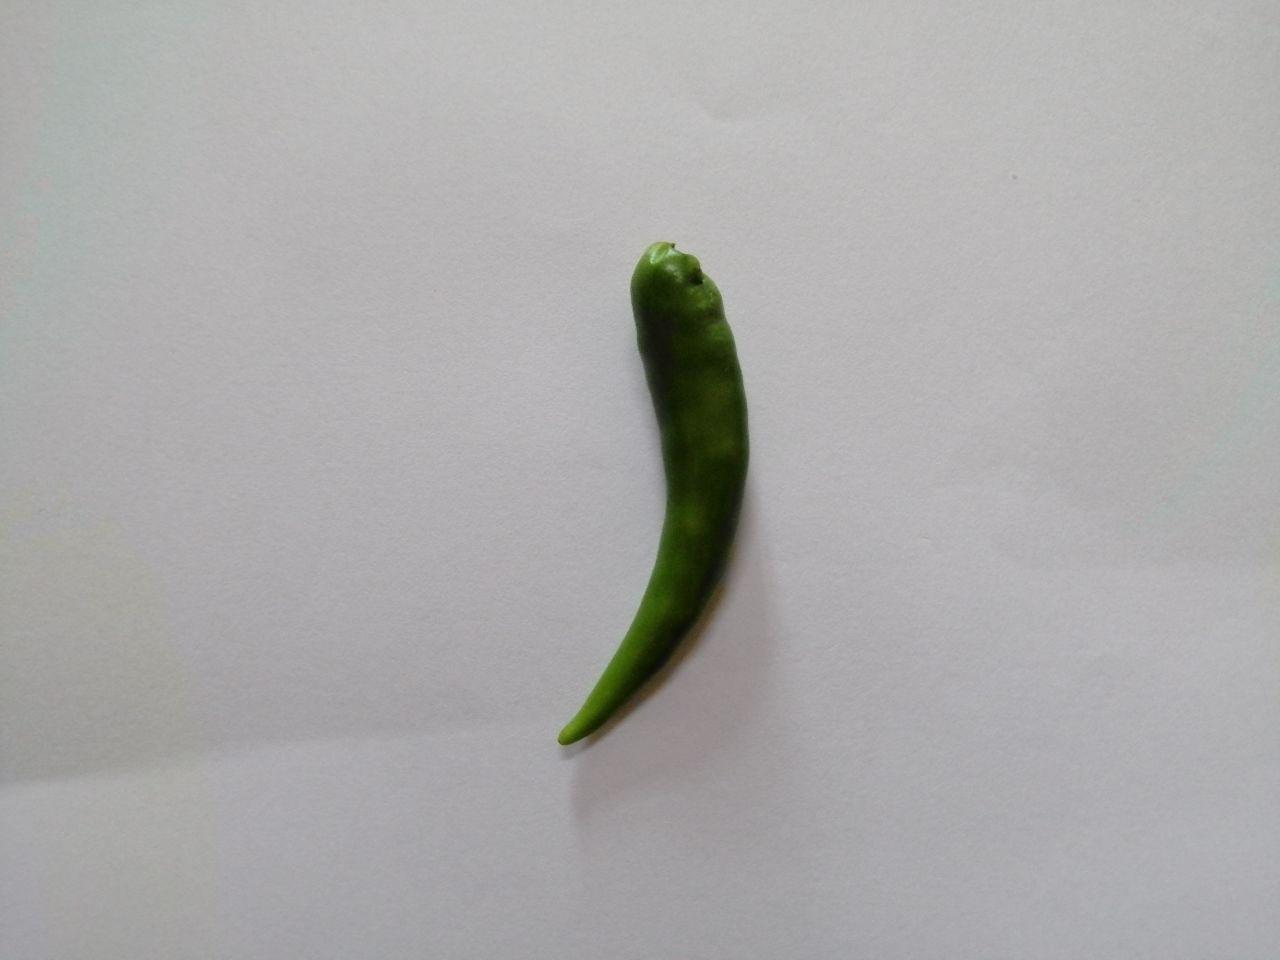lada hijau: (562, 233, 772, 769)
